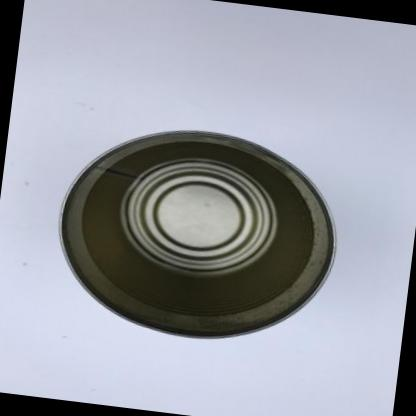Metal: (60, 129, 334, 337)
